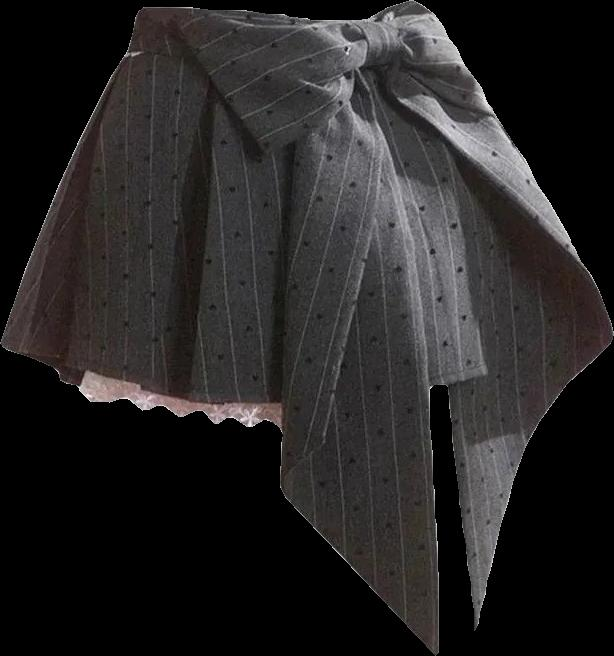Hemline: (1, 69, 443, 655), (429, 342, 613, 629)
Waistline: (140, 2, 408, 28)
